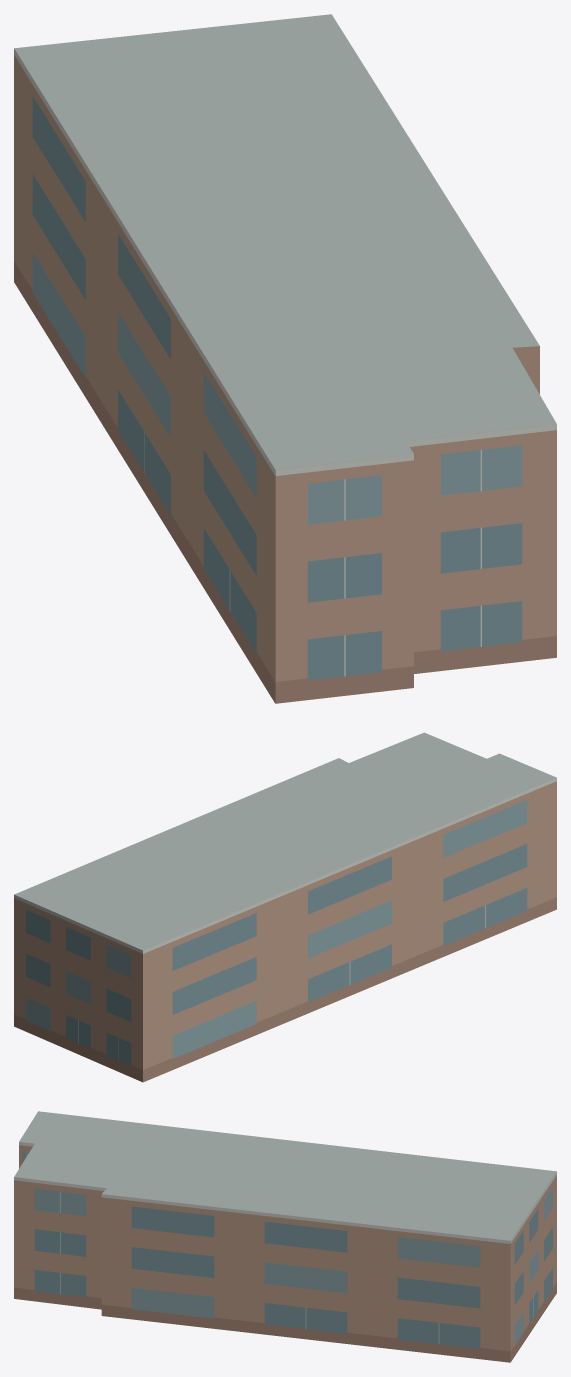
The model's file is survey-upis-32518875.glb.
The picture shows the model from 3 angles, top to bottom: view 1: azimuth 30°, elevation 25°; view 2: azimuth 150°, elevation 25°; view 3: azimuth 270°, elevation 25°; orthographic projection. The views are drawn at different scales.
Visible parts, largest first — view 1: survey-upis-32518875.tmp; view 2: survey-upis-32518875.tmp; view 3: survey-upis-32518875.tmp.
Part boxes in pixels (x1=…): survey-upis-32518875.tmp: x1=14, y1=14, x2=556, y2=703; survey-upis-32518875.tmp: x1=14, y1=732, x2=556, y2=1082; survey-upis-32518875.tmp: x1=14, y1=1111, x2=556, y2=1362.
Size of the model in its own units: 20.87 by 9.15 by 36.94.
